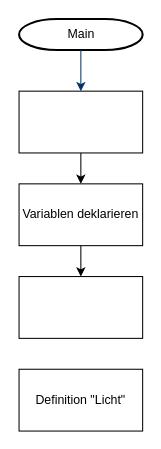
Some shapes in this 161 by 449 pixel diagram are drawn without their labels. The shapes that lost their labels are listed below. From the top down, each one's centre as x and y in pixels, then its label:
the point at 80,121: Klassen importieren
the point at 80,307: Quell-Datei deklarieren
